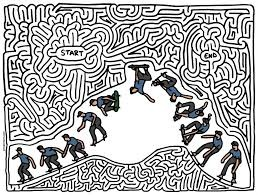maze: (74, 5, 253, 64), (5, 2, 73, 126), (81, 163, 196, 190), (202, 67, 251, 101)
